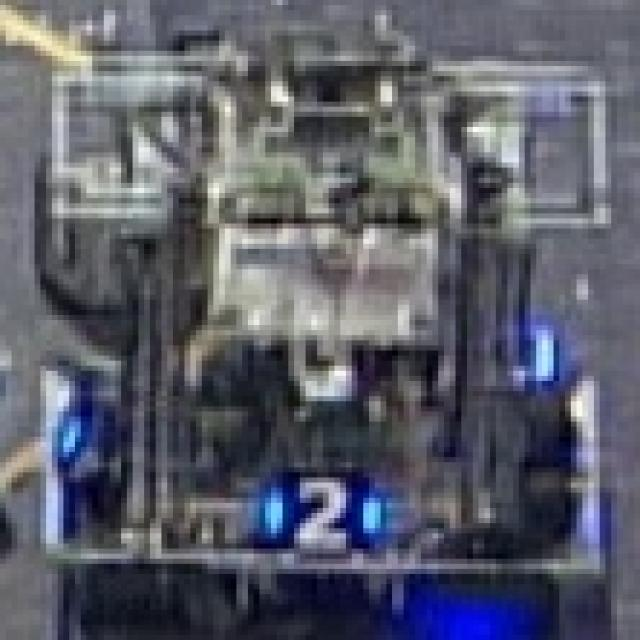B2: (231, 467, 392, 559)
